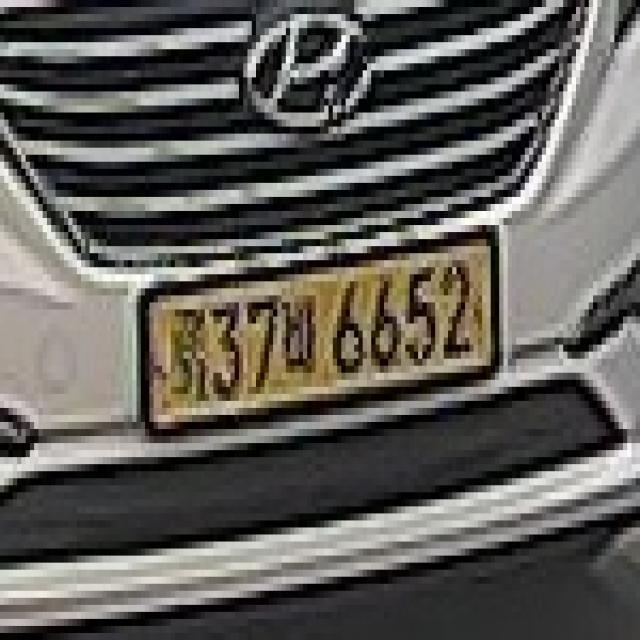plat: (140, 224, 502, 431)
